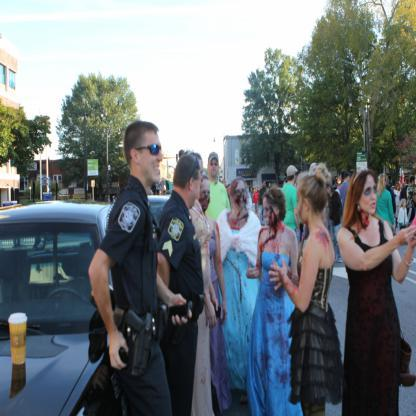car: (0, 198, 115, 415)
